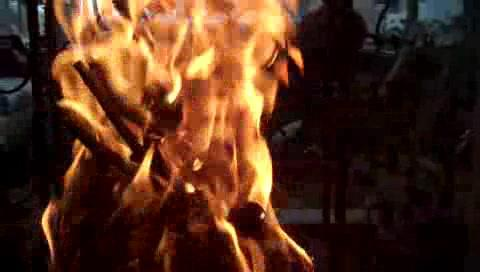fire: (57, 0, 289, 259)
